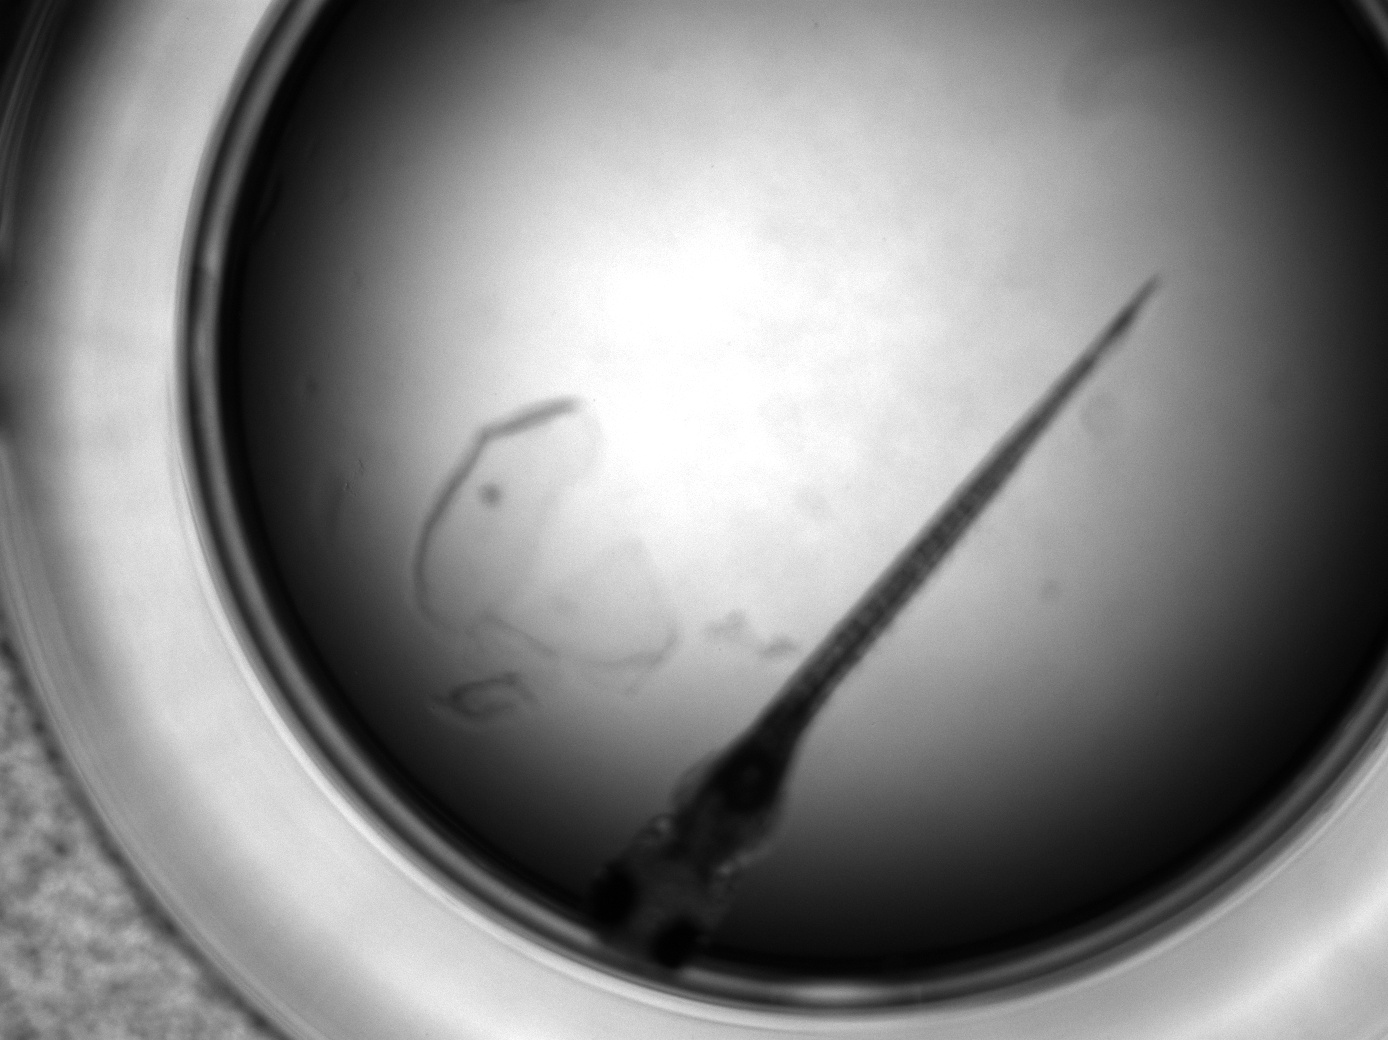embryo: (580, 272, 1163, 974)
eye: (581, 858, 639, 938), (650, 915, 704, 970)
yolksac: (668, 736, 792, 864)
